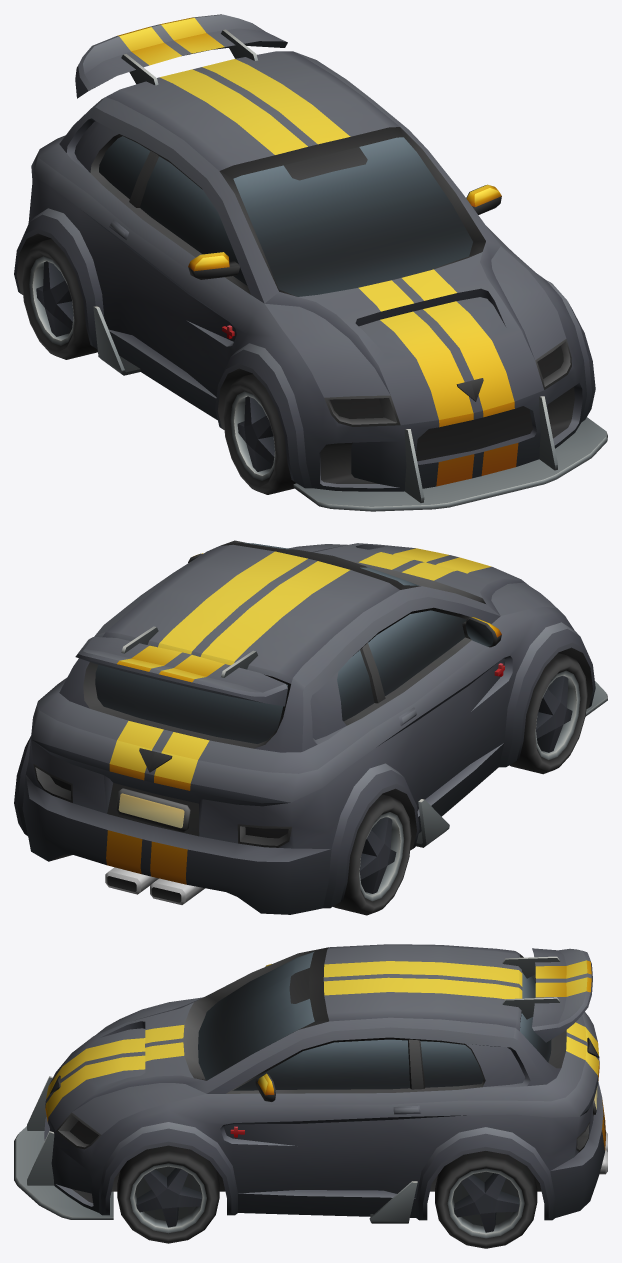
The model's file is Car_7E.fbx.
3 renders of one model, top to bottom at view 1: azimuth 30°, elevation 25°; view 2: azimuth 150°, elevation 25°; view 3: azimuth 270°, elevation 25°, orthographic. The views are drawn at different scales.
Visible parts, largest first — view 1: Car_7E, Wheel_7E_R.R, Wheel_7E_F.R; view 2: Car_7E, Wheel_7E_F.R, Wheel_7E_R.R; view 3: Car_7E, Wheel_7E_R.L, Wheel_7E_F.L.
Part boxes in pixels (x1,y1,x2,y2): Car_7E: (14, 14, 607, 511); Wheel_7E_R.R: (21, 239, 97, 359); Wheel_7E_F.R: (223, 374, 296, 494); Car_7E: (14, 540, 607, 914); Wheel_7E_F.R: (509, 653, 587, 774); Wheel_7E_R.R: (333, 794, 411, 915); Car_7E: (14, 944, 607, 1223); Wheel_7E_R.L: (435, 1151, 537, 1248); Wheel_7E_F.L: (117, 1145, 219, 1243).
Size of the model in its own units: 2.67 by 1.87 by 4.87.
